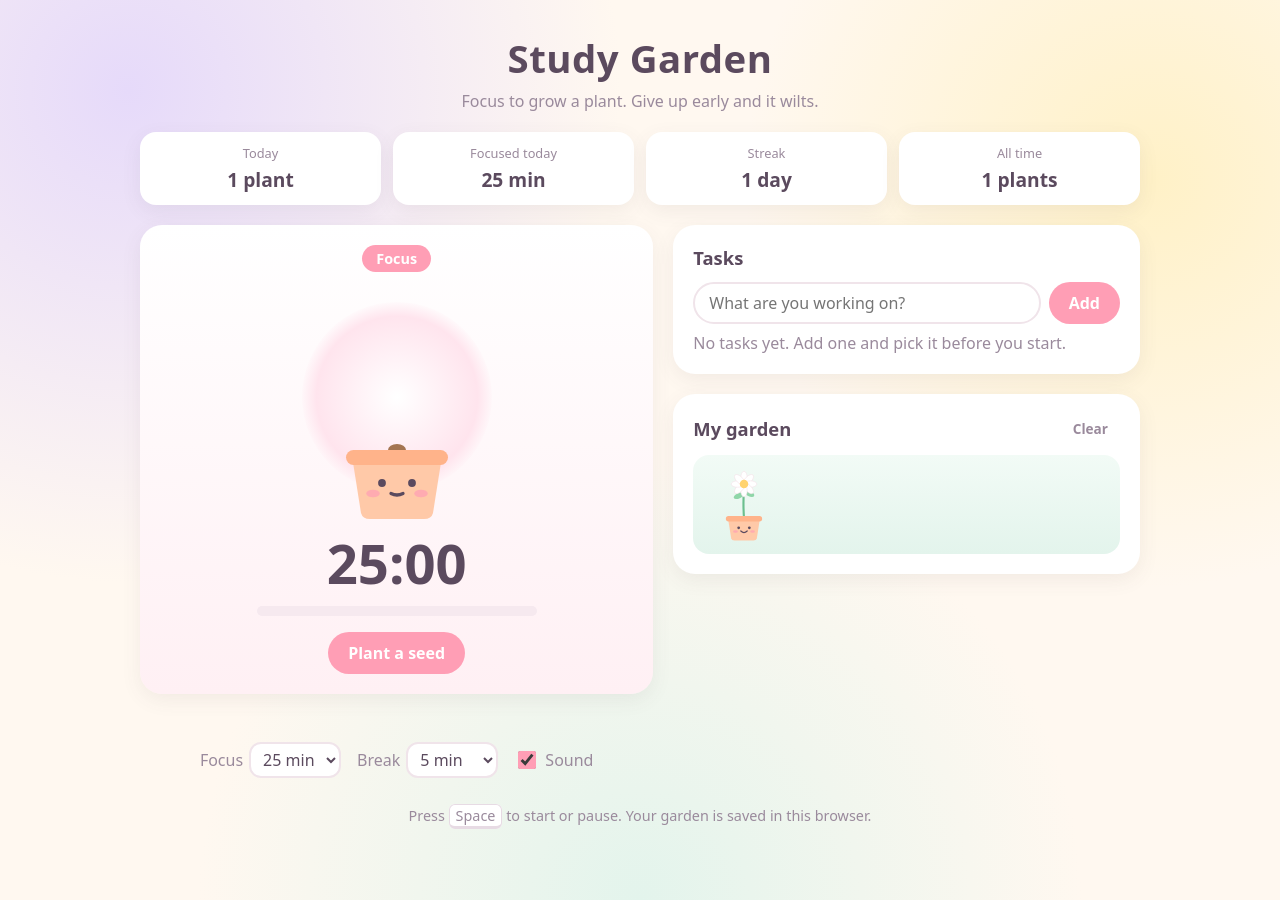
Scenario: App › clears the garden only after confirming
Click the button "Clear" at (1090, 428), box top-left (1061, 414), bottom-right (1120, 443)
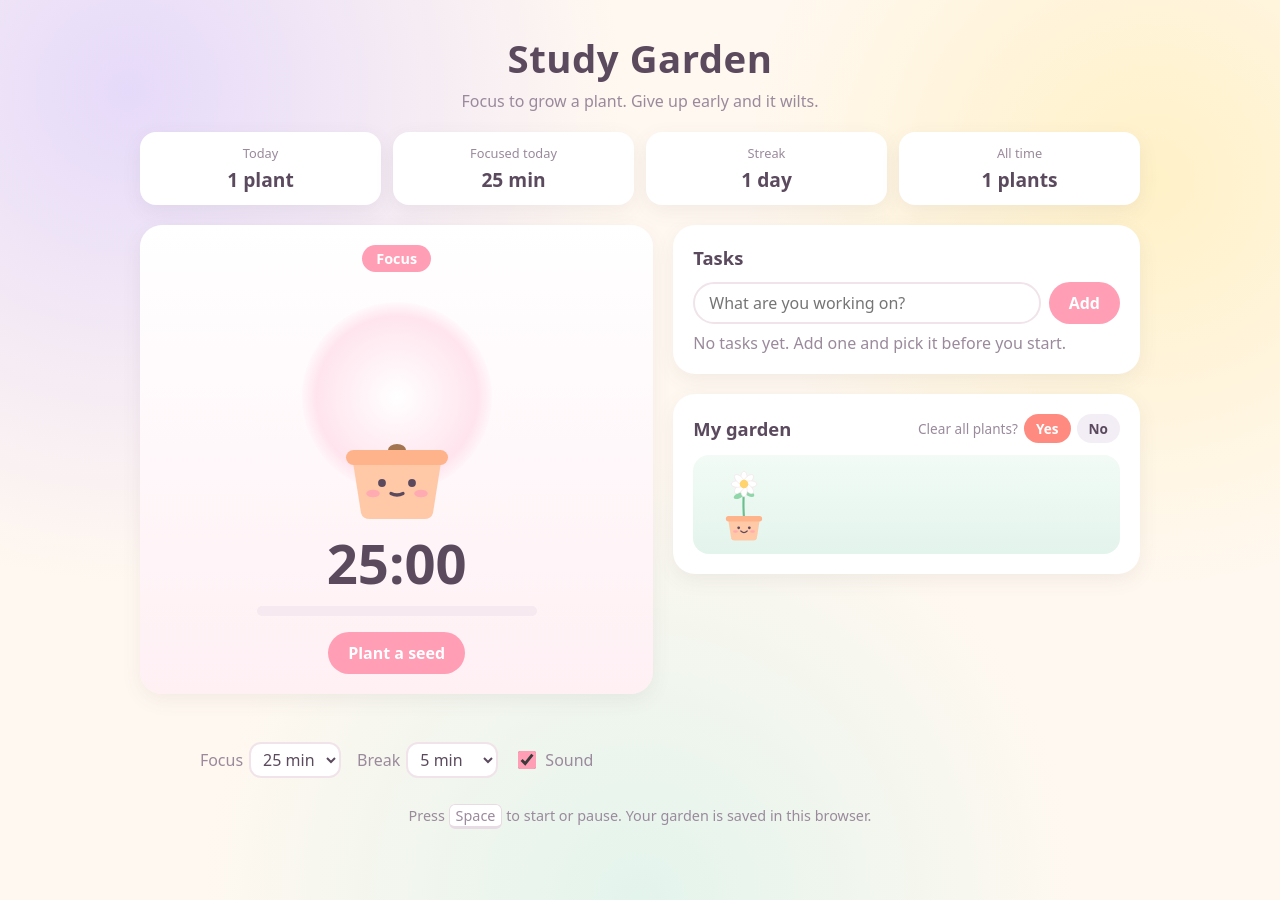
Click the button "No" at (1098, 428), box top-left (1076, 414), bottom-right (1120, 443)
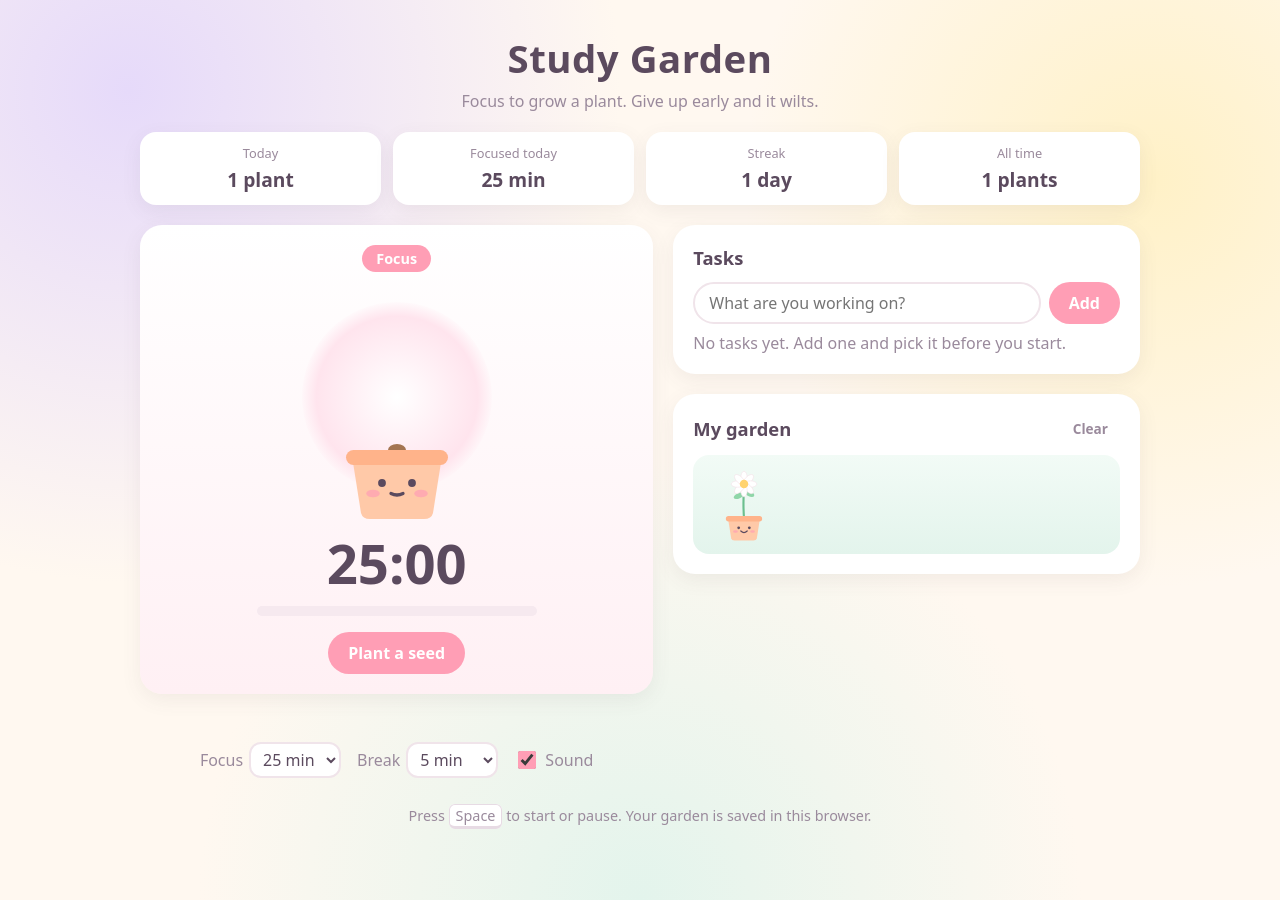
Expected: the text "your garden is empty" is not shown
Click the button "Clear" at (1090, 428), box top-left (1061, 414), bottom-right (1120, 443)
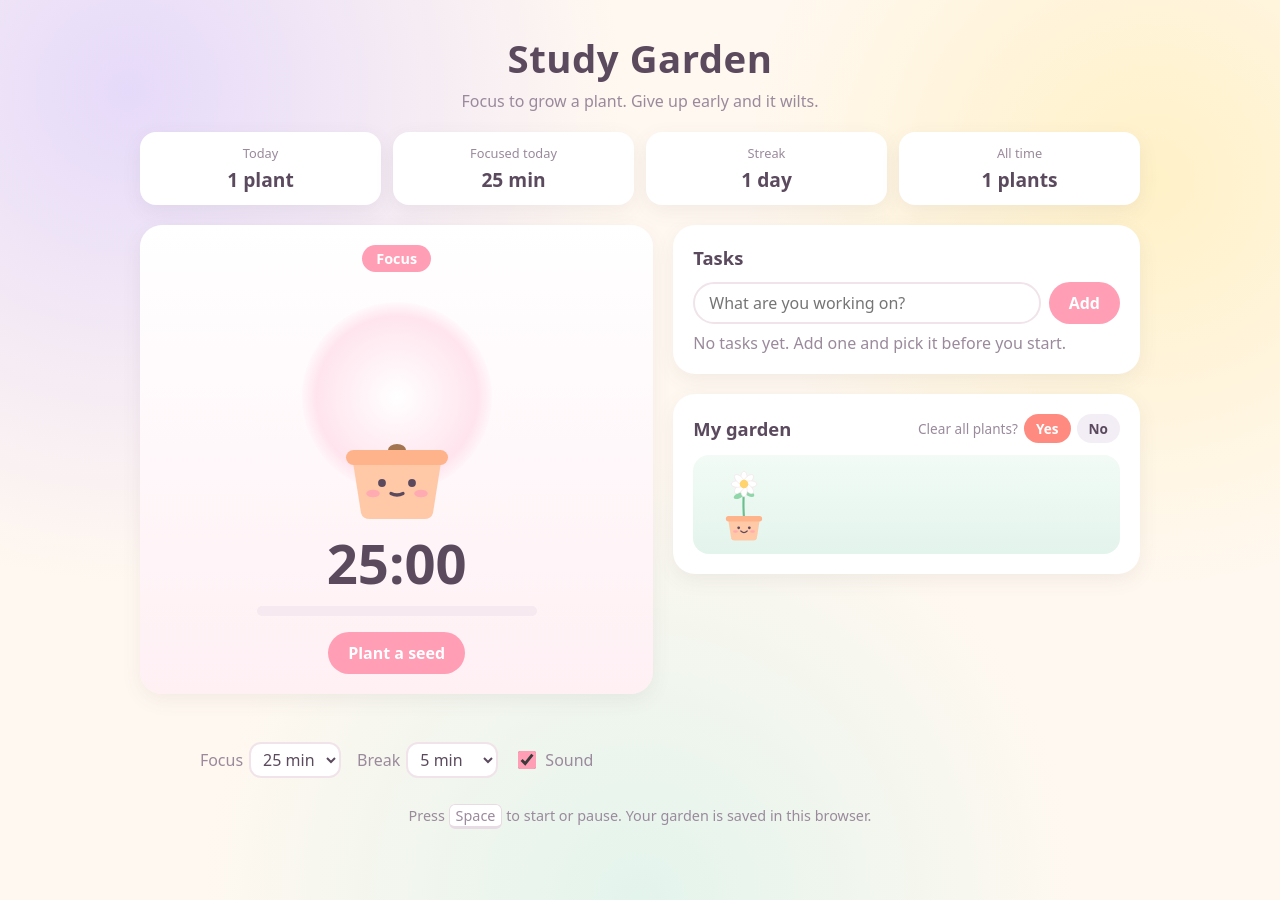
Click the button "Yes" at (1047, 428), box top-left (1024, 414), bottom-right (1070, 443)
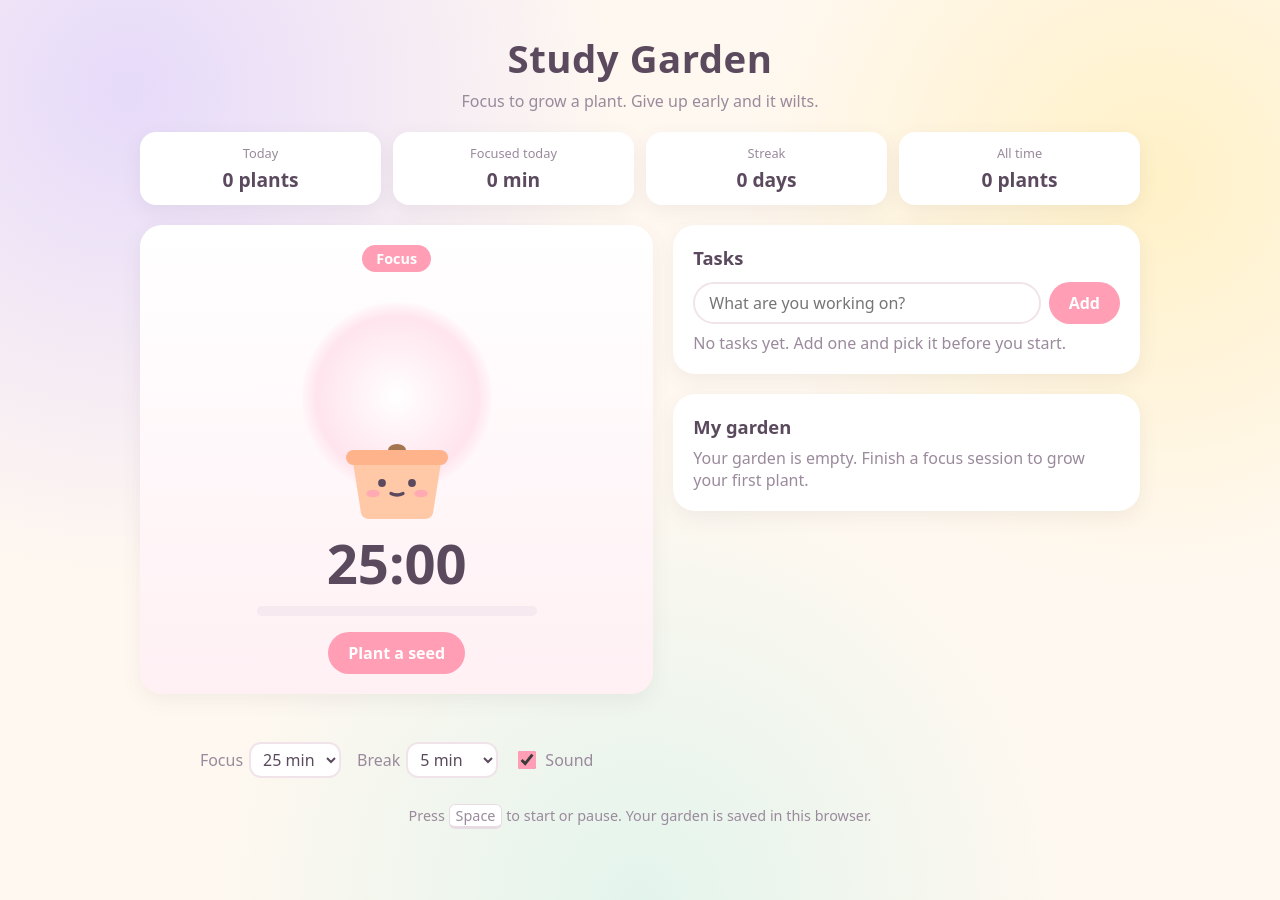
Result: the text "Your garden is empty" is shown at top-left (693, 447), bottom-right (1085, 491)
